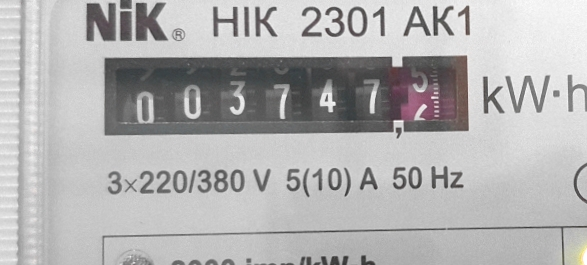0: (181, 80, 202, 119), (133, 88, 156, 123)
3: (227, 78, 246, 115)
4: (316, 74, 337, 115)
5: (409, 64, 429, 93)
6: (410, 100, 429, 121)
7: (359, 74, 382, 115), (271, 80, 291, 120)
screen: (93, 39, 484, 153)
